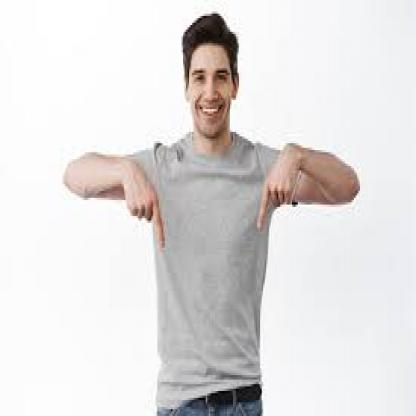Down: (256, 134, 307, 234), (119, 162, 178, 248)
